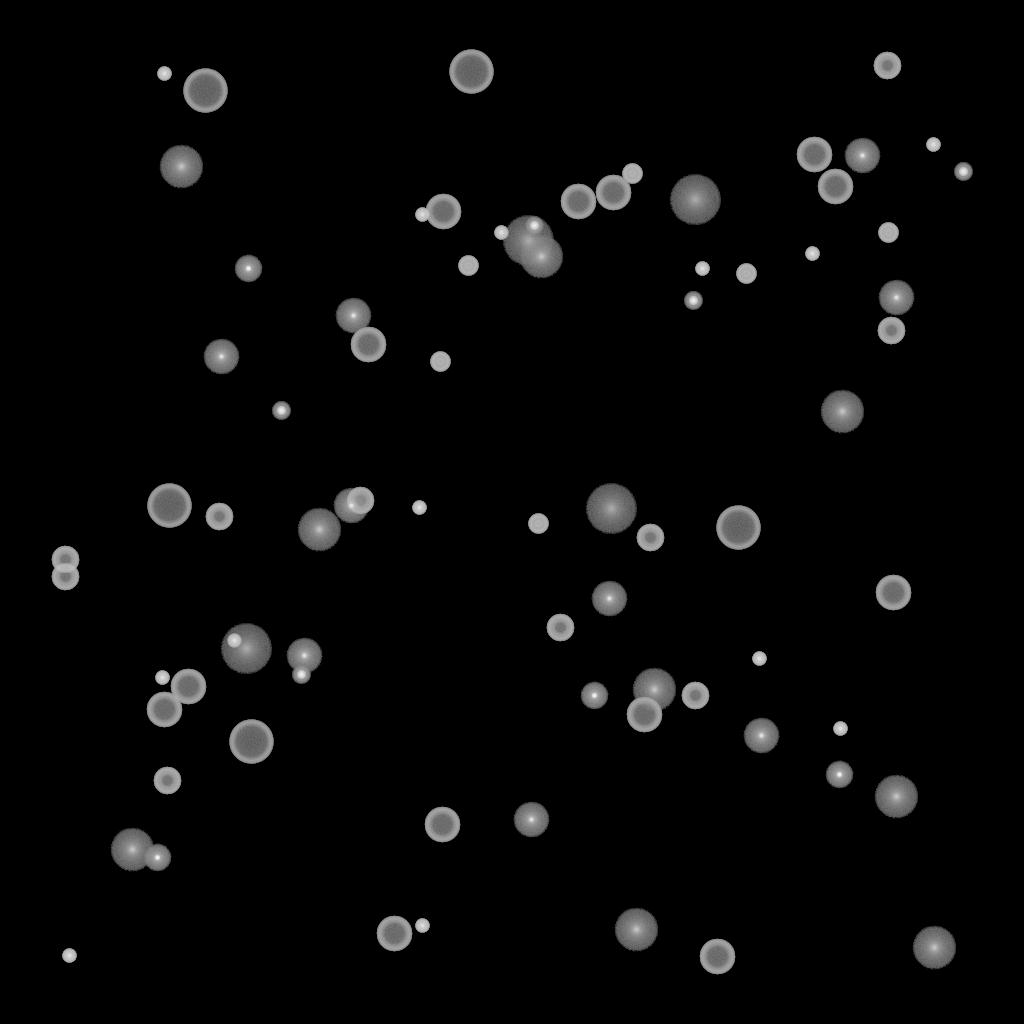depth:-10: (580, 682, 608, 710), (234, 255, 262, 283), (825, 761, 853, 789), (143, 844, 171, 872)
depth:-20: (272, 402, 290, 420), (684, 292, 702, 310), (292, 666, 310, 684), (525, 217, 543, 235), (954, 163, 972, 181)
depth:-30: (157, 67, 171, 81), (412, 501, 426, 515), (415, 919, 429, 933), (926, 138, 940, 152), (752, 652, 766, 666), (833, 722, 847, 736), (155, 671, 169, 685), (62, 949, 76, 963), (227, 634, 241, 648), (494, 226, 508, 240), (415, 208, 429, 222), (695, 262, 709, 276), (805, 247, 819, 261)
depth:-40: (458, 256, 478, 276), (430, 352, 450, 372), (878, 223, 898, 243), (622, 164, 642, 184), (736, 264, 756, 284), (528, 514, 548, 534)
depth:-50: (51, 563, 79, 591), (205, 503, 233, 531), (346, 487, 374, 515), (51, 546, 79, 574), (681, 682, 709, 710), (873, 52, 901, 80), (153, 767, 181, 795), (546, 614, 574, 642), (877, 317, 905, 345), (636, 524, 664, 552)
depth:-60: (626, 697, 662, 733), (146, 692, 182, 728), (350, 327, 386, 363), (796, 137, 832, 173), (376, 916, 412, 952), (875, 575, 911, 611), (424, 807, 460, 843), (699, 939, 735, 975), (595, 175, 631, 211), (425, 194, 461, 230), (170, 669, 206, 705), (560, 184, 596, 220), (817, 169, 853, 205)
depth:-70: (716, 506, 760, 550), (229, 720, 273, 764), (147, 484, 191, 528), (183, 69, 227, 113), (449, 50, 493, 94)
depth:0: (743, 718, 779, 754), (286, 638, 322, 674), (203, 339, 239, 375), (335, 298, 371, 334), (333, 488, 369, 524), (591, 581, 627, 617), (513, 802, 549, 838), (844, 138, 880, 174), (878, 280, 914, 316)
depth:10: (297, 508, 341, 552), (912, 926, 956, 970), (110, 828, 154, 872), (632, 668, 676, 712), (820, 390, 864, 434), (874, 775, 918, 819), (614, 908, 658, 952), (159, 145, 203, 189), (519, 235, 563, 279)
depth:20: (585, 484, 637, 534), (669, 175, 721, 225), (220, 624, 272, 674), (502, 216, 554, 266)
